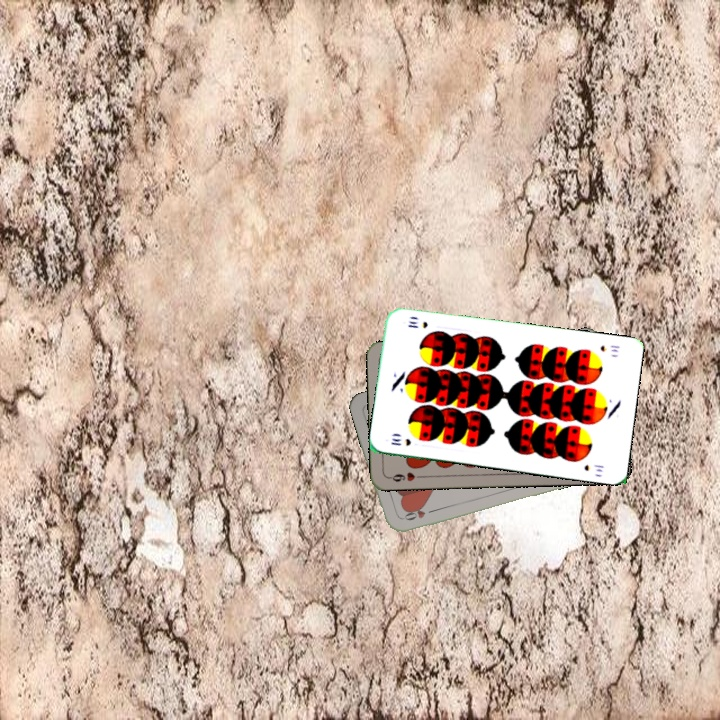H9: (385, 468, 425, 484)
HO: (397, 504, 437, 523)
S10: (387, 434, 413, 448), (596, 341, 622, 355)
